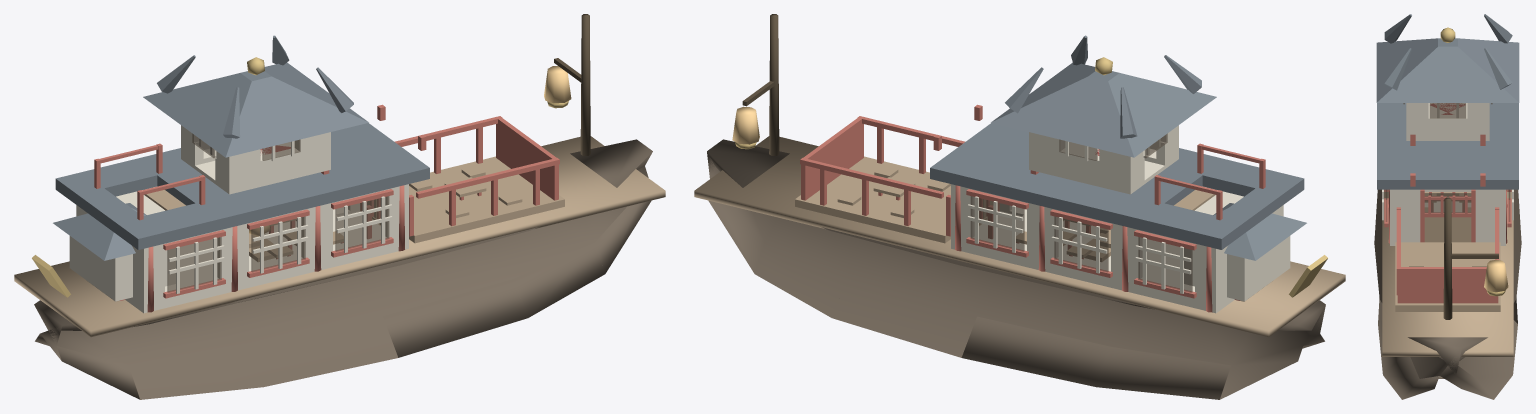
File: paintboat.glb
3 views of the same model, side by side, from view 1: azimuth 30°, elevation 25°; view 2: azimuth 150°, elevation 25°; view 3: azimuth 270°, elevation 25° (orthographic). The views are drawn at different scales.
Parts seen in each view (by area): view 1: body, lantern; view 2: body, lantern; view 3: body, lantern.
Part boxes in pixels (<box>): body: <box>14,14,665,399</box>; lantern: <box>249,66,571,236</box>; body: <box>694,14,1345,399</box>; lantern: <box>732,106,759,149</box>; body: <box>1374,14,1521,399</box>; lantern: <box>1484,259,1508,296</box>.
Size of the model in its own units: 6.84 by 3.2 by 1.68.
